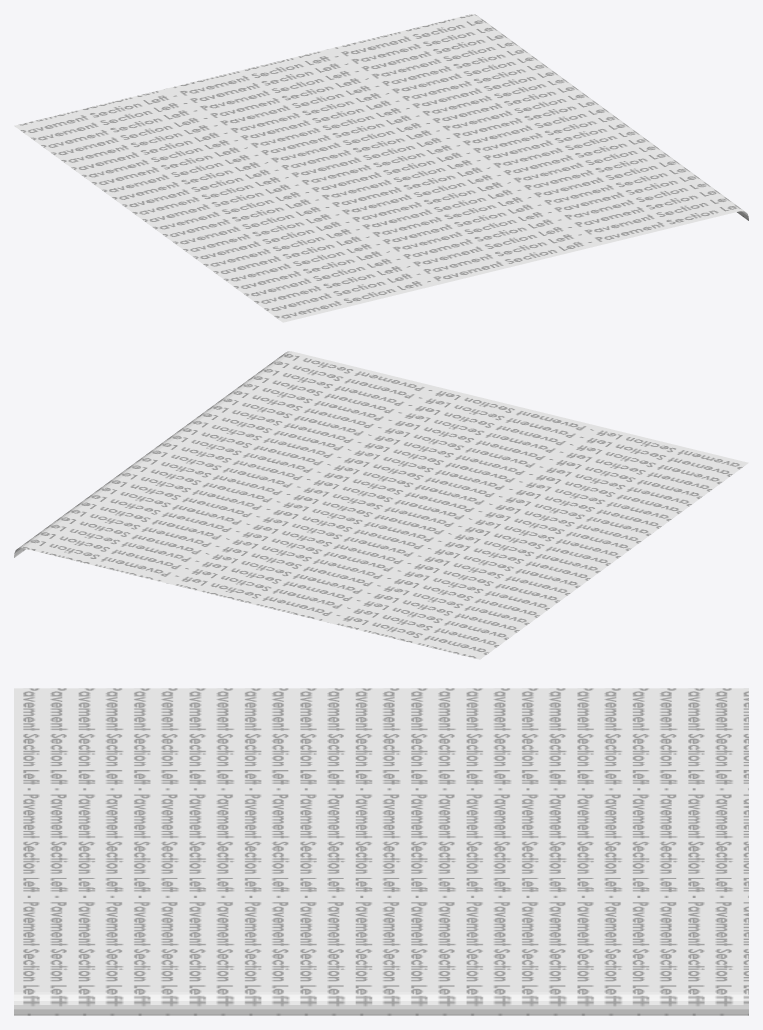
Rendered from Curb_Left.FBX.
The picture shows the model from 3 angles, top to bottom: view 1: azimuth 30°, elevation 25°; view 2: azimuth 150°, elevation 25°; view 3: azimuth 270°, elevation 25°; orthographic projection. The views are drawn at different scales.
Parts seen in each view (by area): view 1: Curb_left; view 2: Curb_left; view 3: Curb_left.
Part boxes in pixels (bbox=[...]): Curb_left: bbox=[14, 14, 748, 322]; Curb_left: bbox=[14, 351, 748, 659]; Curb_left: bbox=[14, 688, 748, 1015].
Bounding box in the file's own units: 400 × 10 × 400.
1 material, 1 textured.
